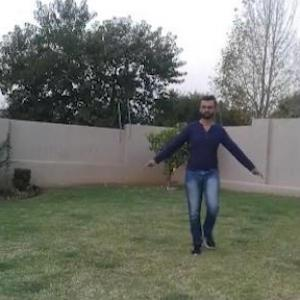land: (136, 82, 274, 264)
